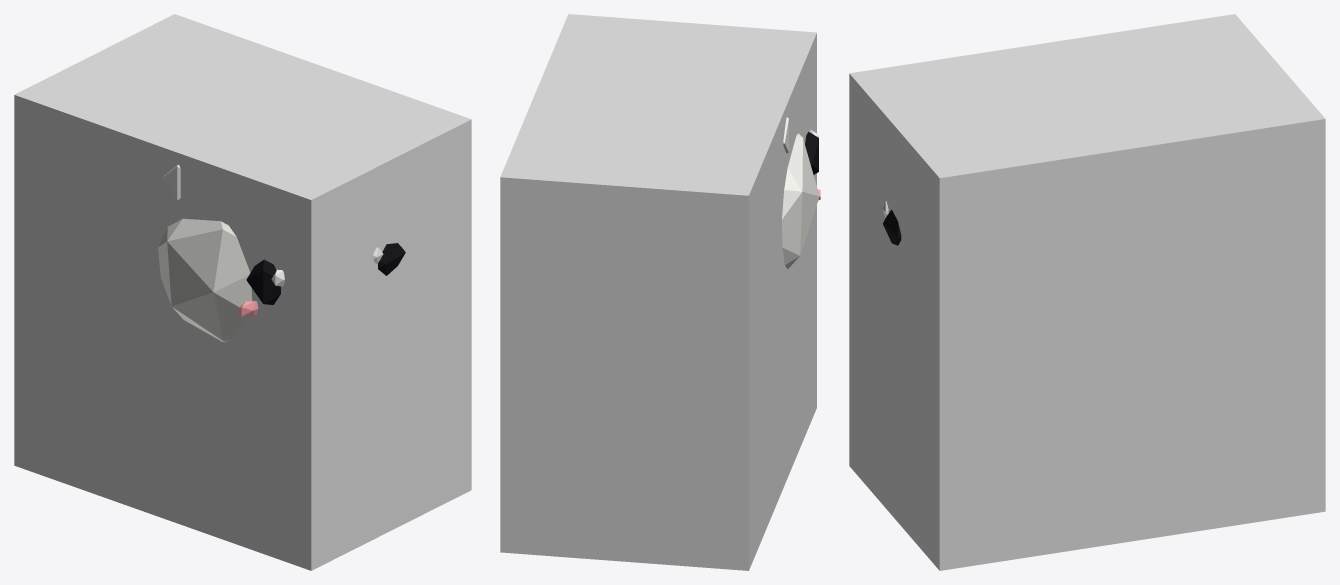
The model's file is tundra_pet3.fbx.
3 renders of one model, left to right at view 1: azimuth 30°, elevation 25°; view 2: azimuth 150°, elevation 25°; view 3: azimuth 270°, elevation 25°, orthographic. The views are drawn at different scales.
Parts seen in each view (by area): view 1: Root__0.00_0.52_0.00__0.64_1.05_0.99, Head__Body__0.00_0.52_-0.10; view 2: Root__0.00_0.52_0.00__0.64_1.05_0.99, Head__Body__0.00_0.52_-0.10; view 3: Root__0.00_0.52_0.00__0.64_1.05_0.99.
Part boxes in pixels (<box>): Root__0.00_0.52_0.00__0.64_1.05_0.99: <box>14,14,471,570</box>; Head__Body__0.00_0.52_-0.10: <box>158,164,405,342</box>; Root__0.00_0.52_0.00__0.64_1.05_0.99: <box>500,14,816,570</box>; Head__Body__0.00_0.52_-0.10: <box>782,117,820,269</box>; Root__0.00_0.52_0.00__0.64_1.05_0.99: <box>849,14,1325,570</box>.
Bounding box in the file's own units: 26.26 × 29.46 × 32.16.
1 material, 1 textured.
